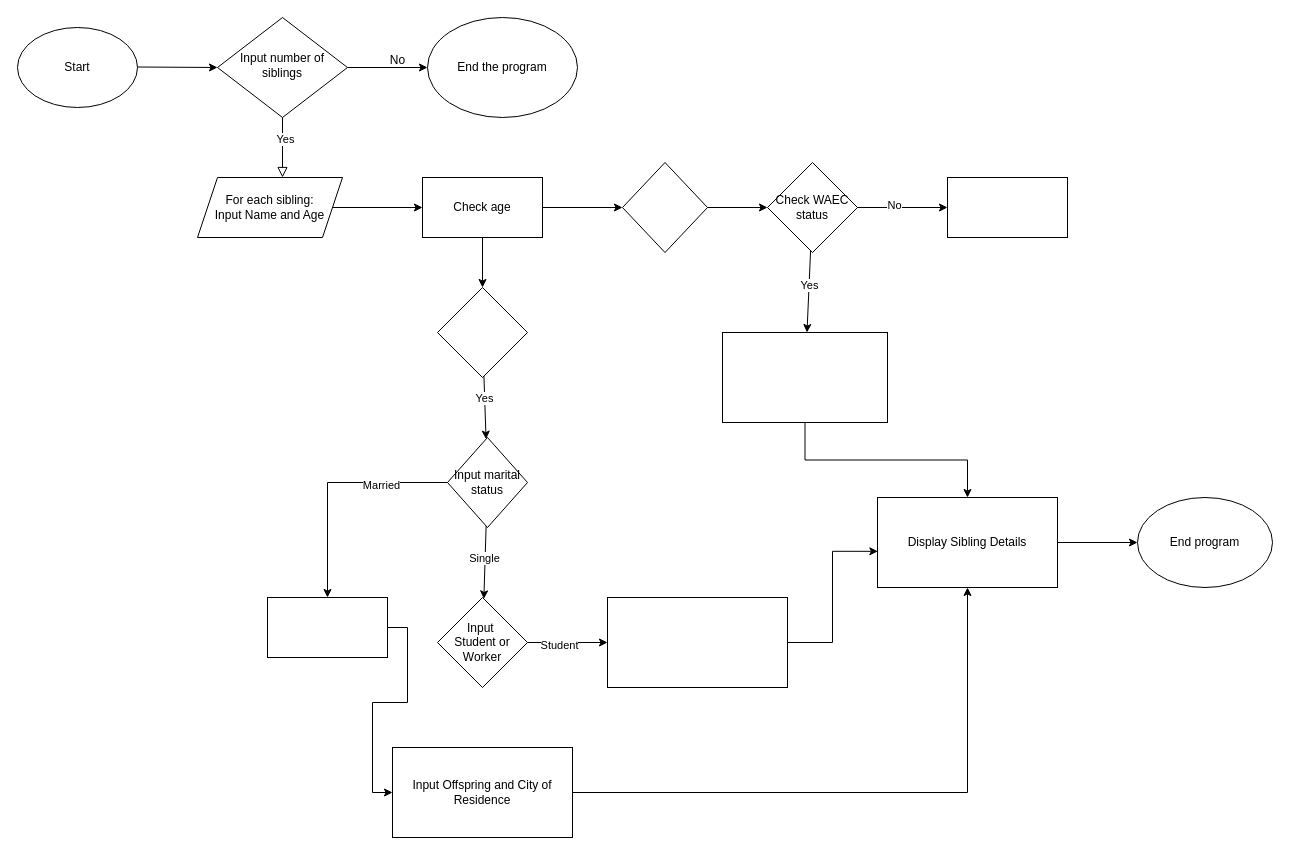
Some shapes in this 1290 by 855 pixel diagram are drawn without their labels. The shapes that lost their labels are listed below. From the top down, each one's centre as x and y in pixels, then its label:
At (x=665, y=207): "If Age <= 18".
At (x=1007, y=207): "Input Current Class Level".
At (x=482, y=332): "If age > 18".
At (x=805, y=377): "Input Secondary School Attended".
At (x=327, y=627): "Input if you have any offspring".
At (x=697, y=642): "Input University and course of study".
